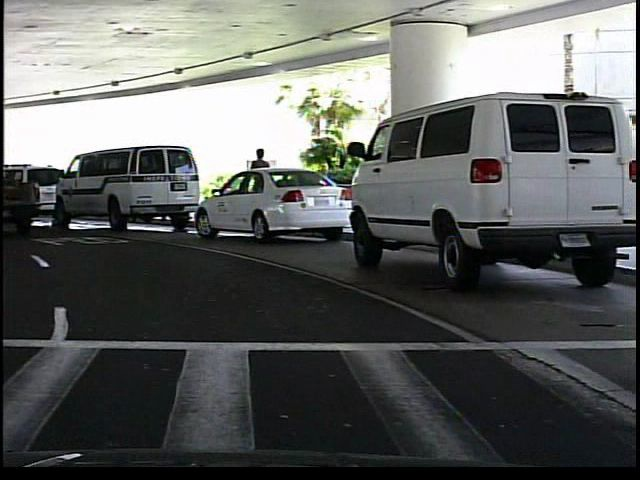person: (246, 144, 273, 220)
